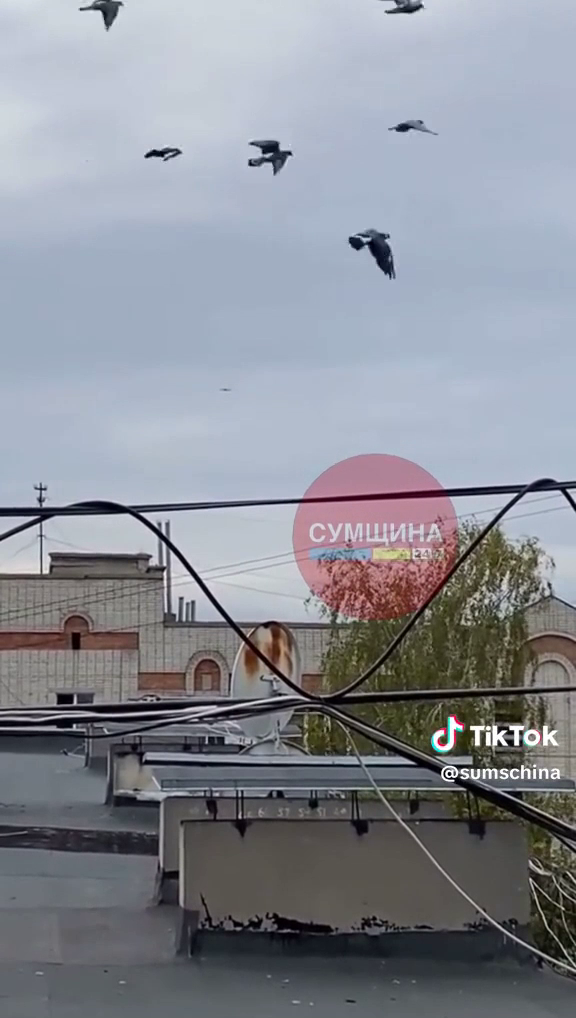not_drone: (343, 223, 403, 286), (242, 134, 296, 180), (140, 140, 186, 172), (383, 116, 441, 138)
